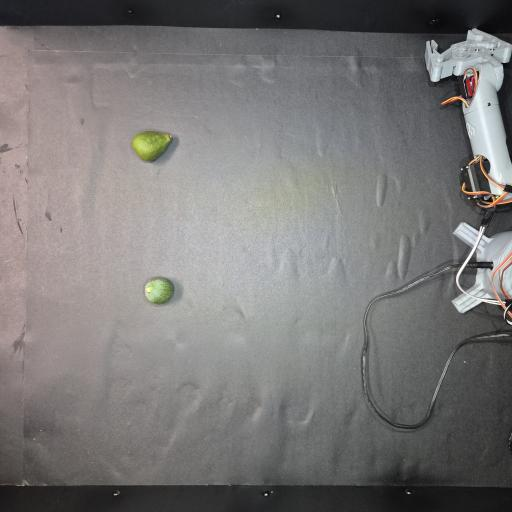higo: (132, 131, 172, 161), (144, 278, 174, 304)
